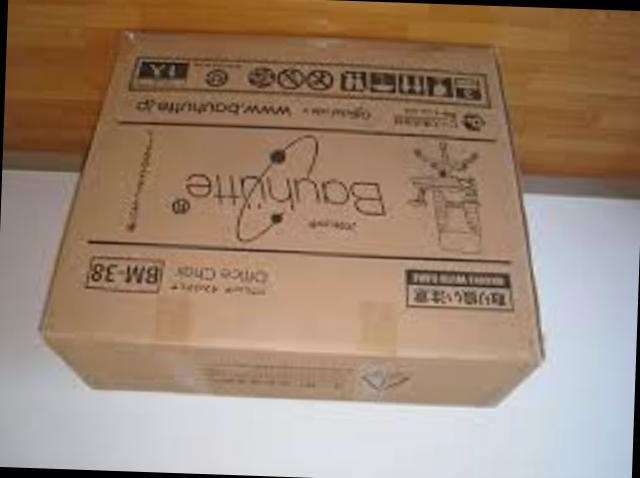cardboard paper: (47, 38, 546, 409)
